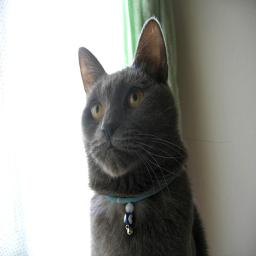catnose: (100, 120, 120, 140)
